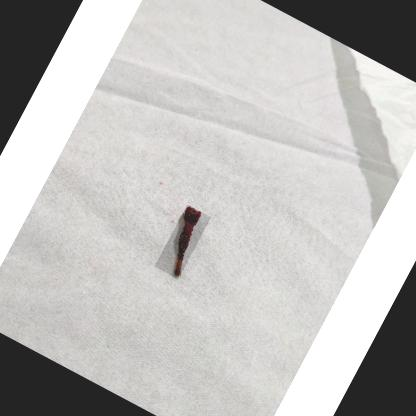buruk: (174, 208, 201, 279)
